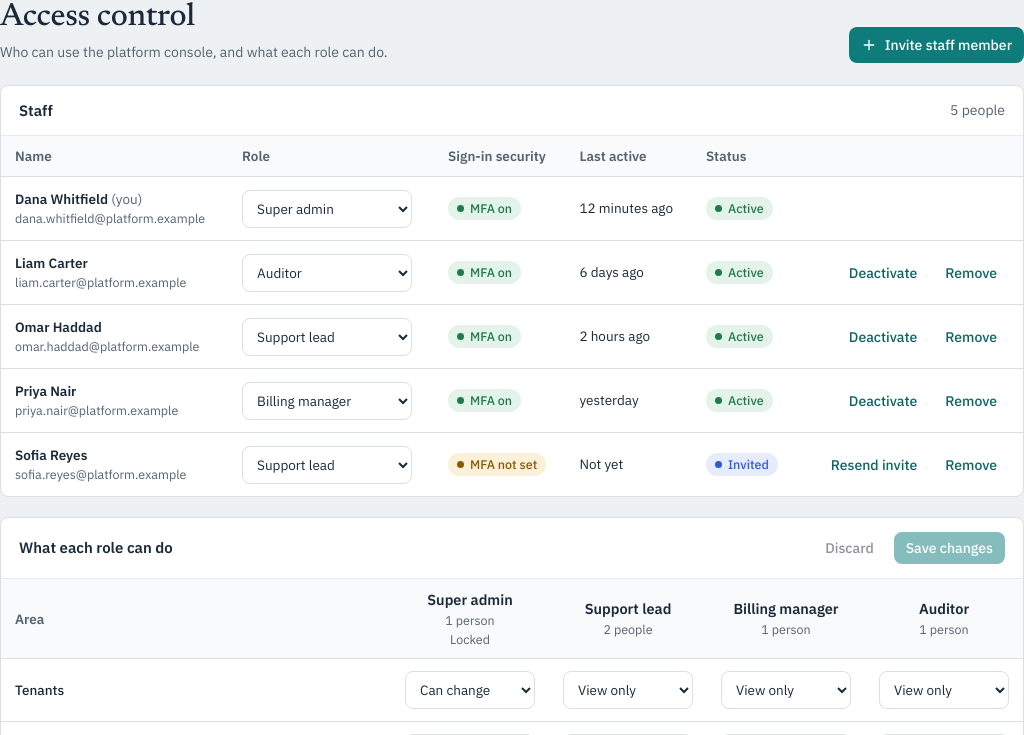
Test: Invite staff member: the dialog › closes on Cancel and Escape without asking the server, and gives focus back to the button
Click the button "Invite staff member" at (936, 45), box [849,27,1023,63]
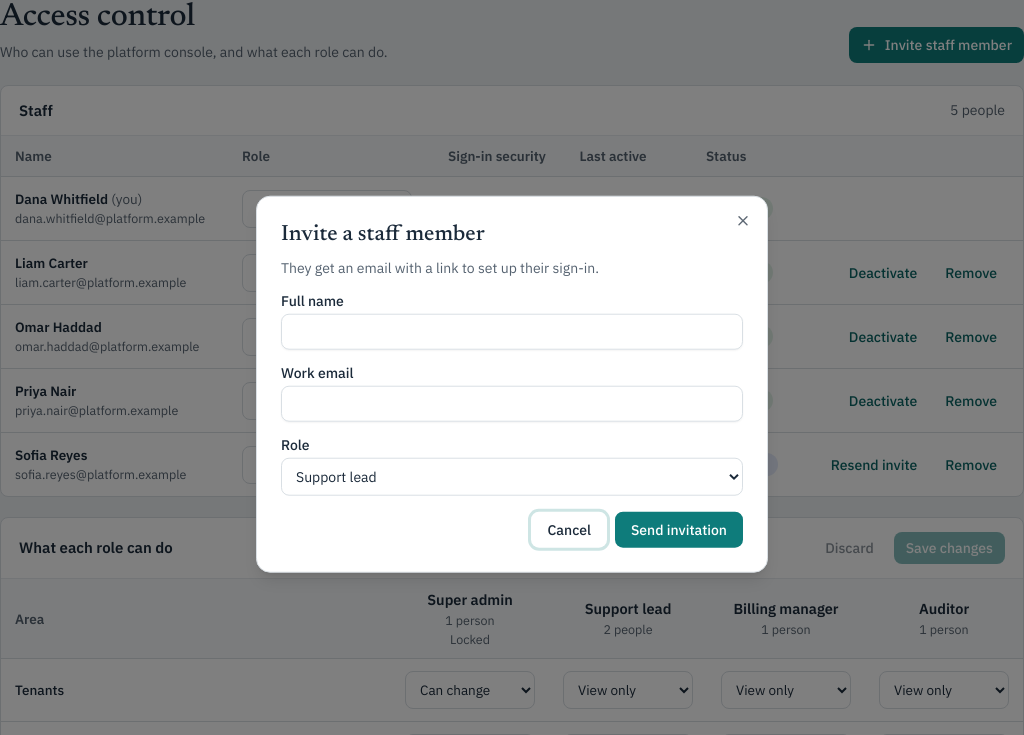
Click the button "Cancel" at (569, 529), box [532,511,607,547]
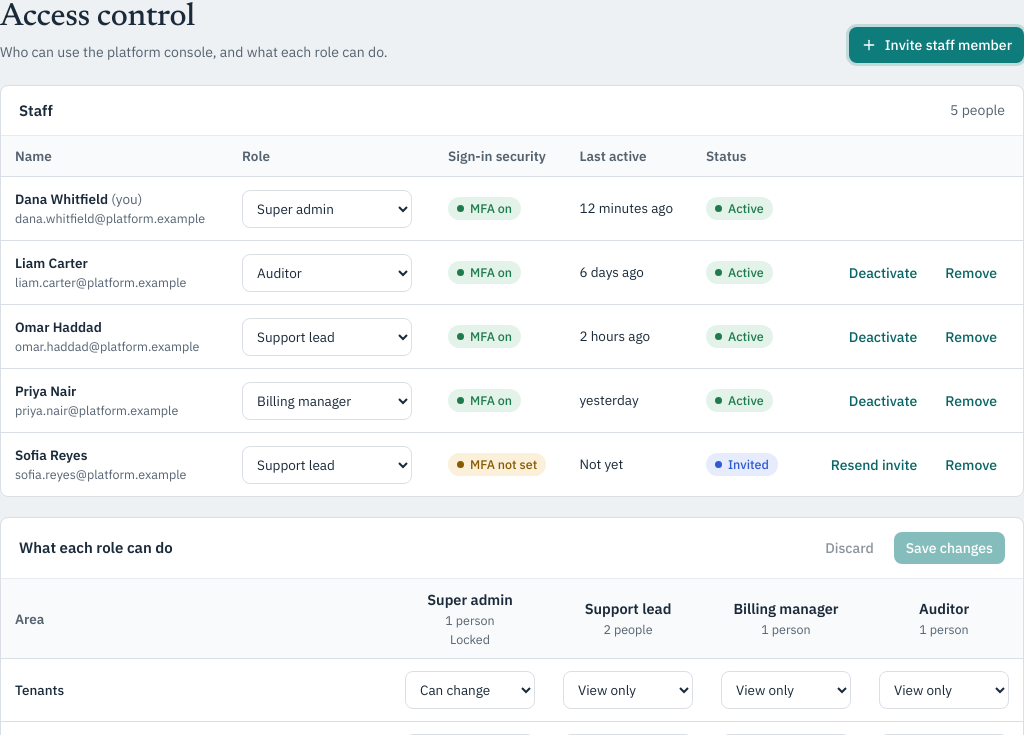
Expected: the dialog is gone
Click the button "Invite staff member" at (936, 45), box [849,27,1023,63]
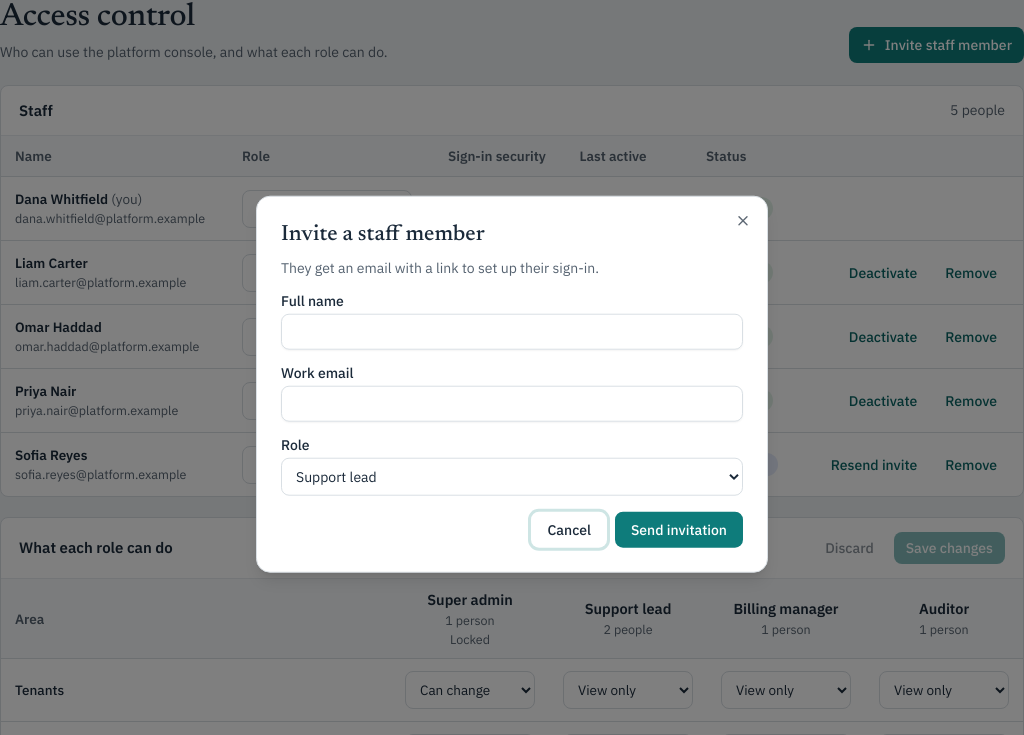
Expected: the dialog "Invite a staff member" is shown, [256,196,768,572]
Press Escape
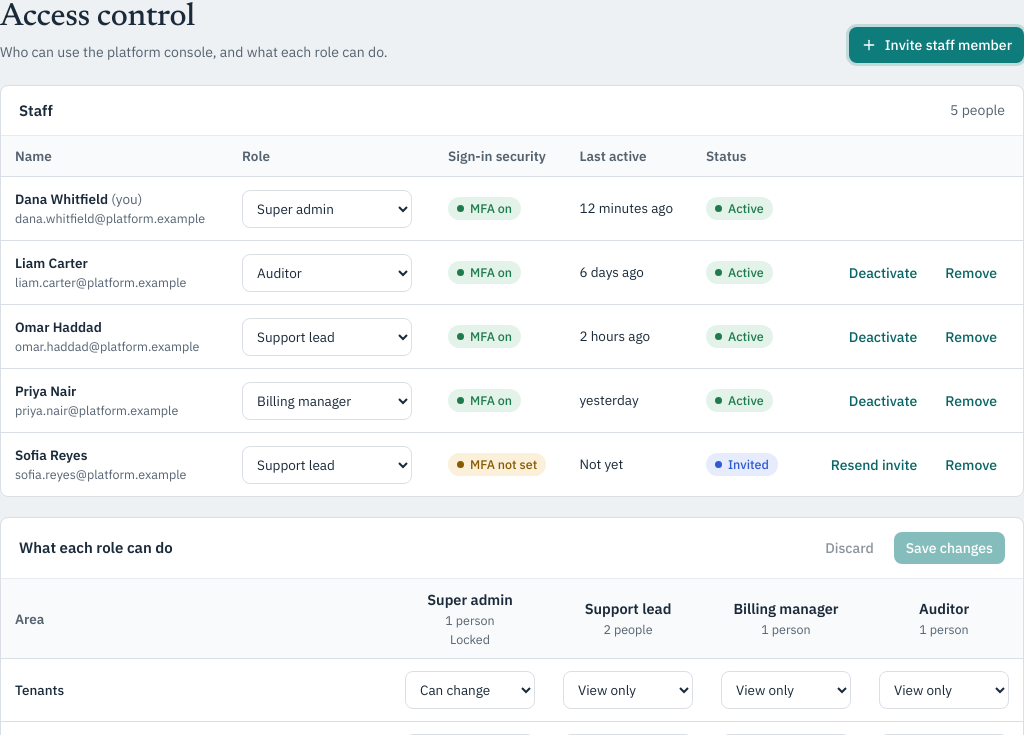
Expected: the dialog is gone
